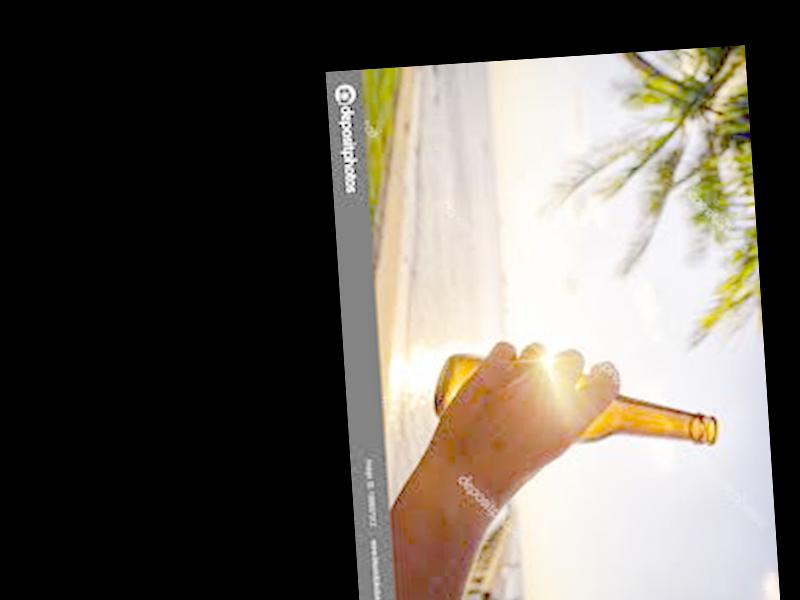Beer: (428, 339, 719, 466)
